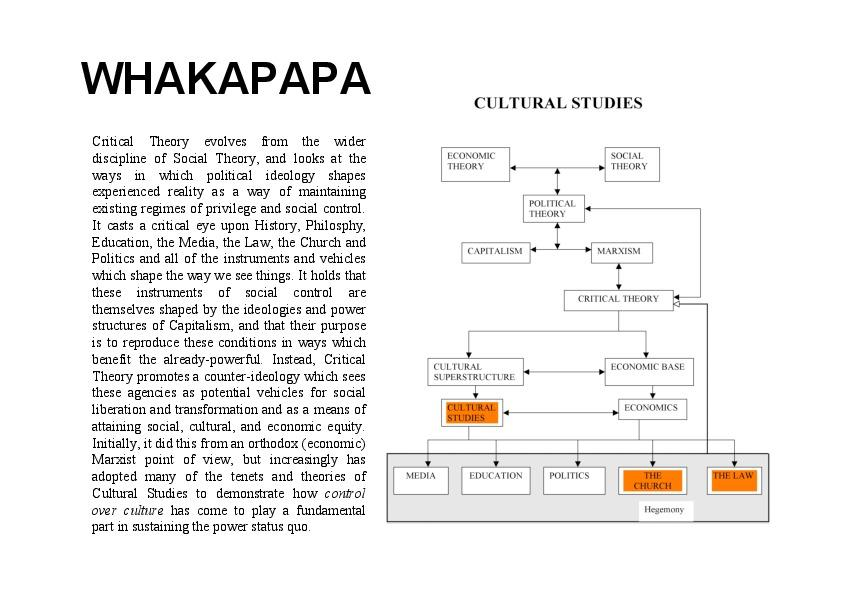paragraph: (80, 124, 379, 554)
title: (73, 49, 378, 112)
